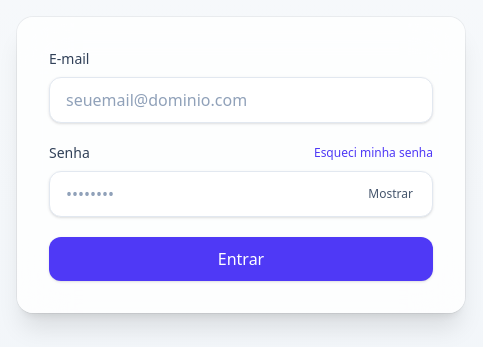
Login page › should show and hide password when toggle is clicked
Step 1. Type "test@example.com" into the field with test id "email-input" → point(241, 100), box top-left (49, 77), bottom-right (433, 123)
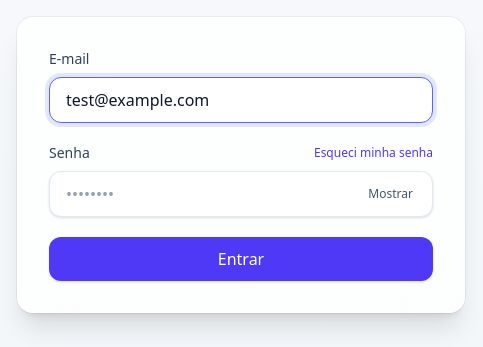
Step 2. Type "password123" into the password field with test id "password-input" → point(241, 194), box top-left (49, 171), bottom-right (433, 217)
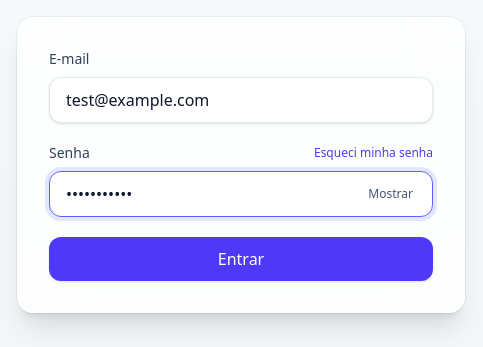
Step 3. Click the button with test id "submit-button" → point(241, 259), box top-left (49, 237), bottom-right (433, 281)
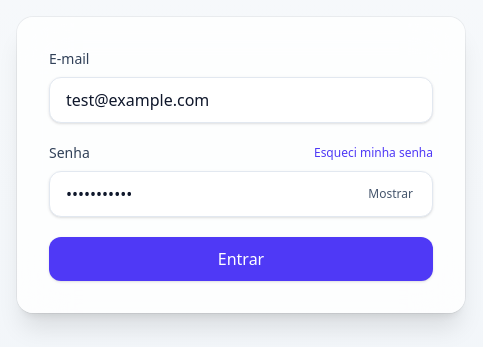
Step 4. Click the button with test id "toggle-password-visibility" → point(391, 194), box top-left (356, 175), bottom-right (425, 213)
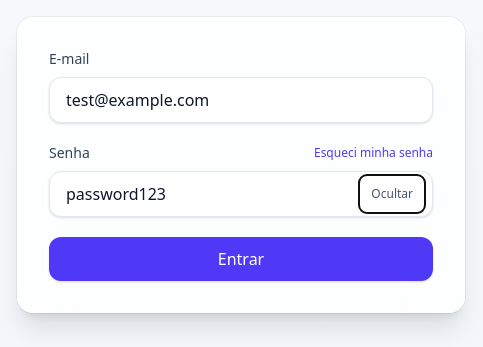
Check: the field with test id "password-input" shows its text, box top-left (49, 171), bottom-right (433, 217)
Step 5. Click the button with test id "toggle-password-visibility" → point(392, 194), box top-left (359, 175), bottom-right (425, 213)
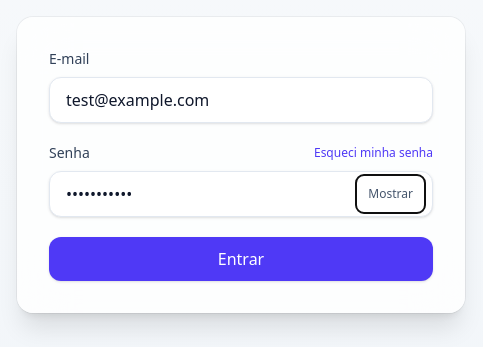
Check: the password field with test id "password-input" hides its text, box top-left (49, 171), bottom-right (433, 217)
